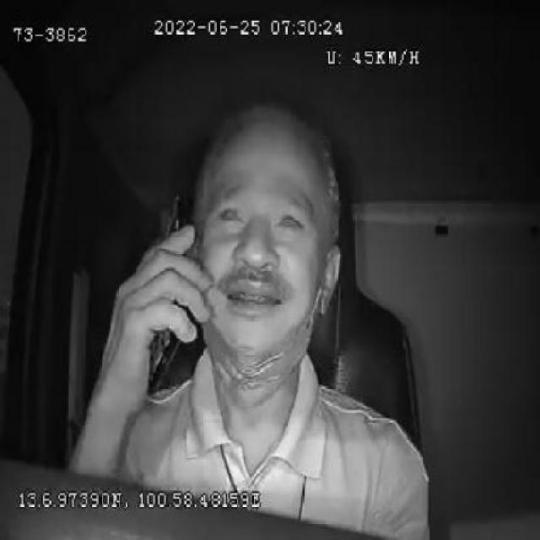phone: (142, 194, 193, 384)
